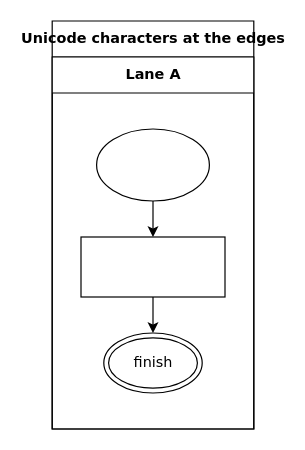
Some shapes in this 305 by 450 pixel diagram are drawn without their labels. The shapes that lost their labels are listed below. From the top down, each one's box as (x1, y1, x2, y2) in pixels, then its label:
(95, 128, 209, 201): İstanbul line two
(80, 236, 225, 297): before after
